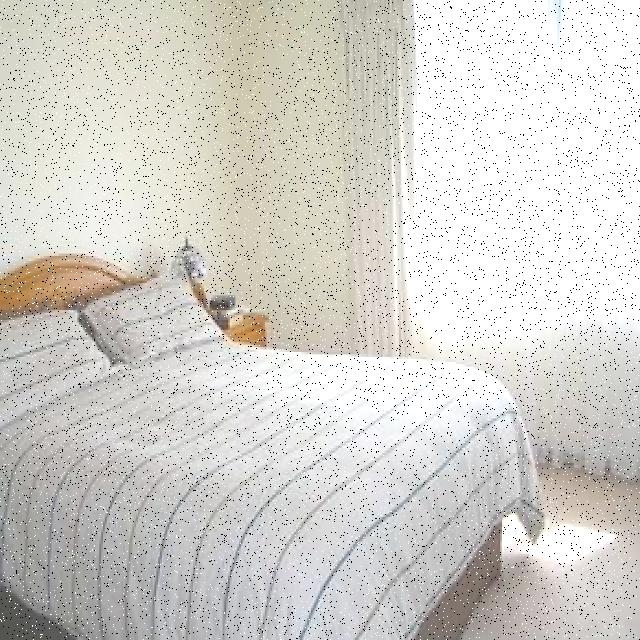bed: (5, 242, 516, 640)
